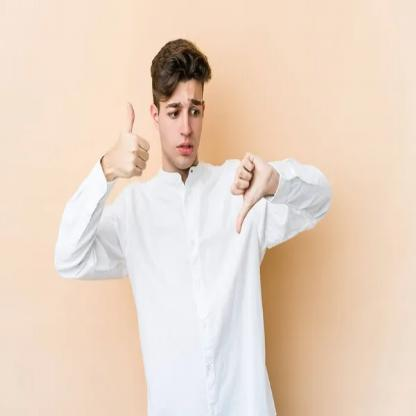thumb_down: (226, 146, 268, 240)
thumb_up: (109, 95, 154, 192)
